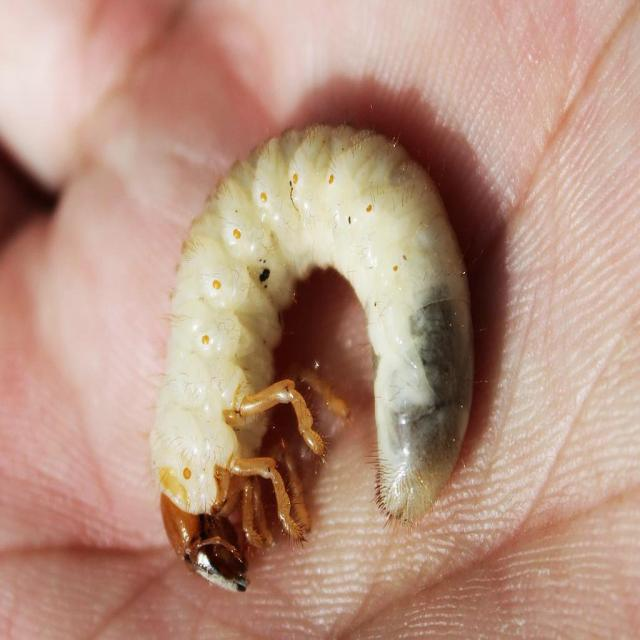Grub-Adult-: (143, 115, 485, 596)
